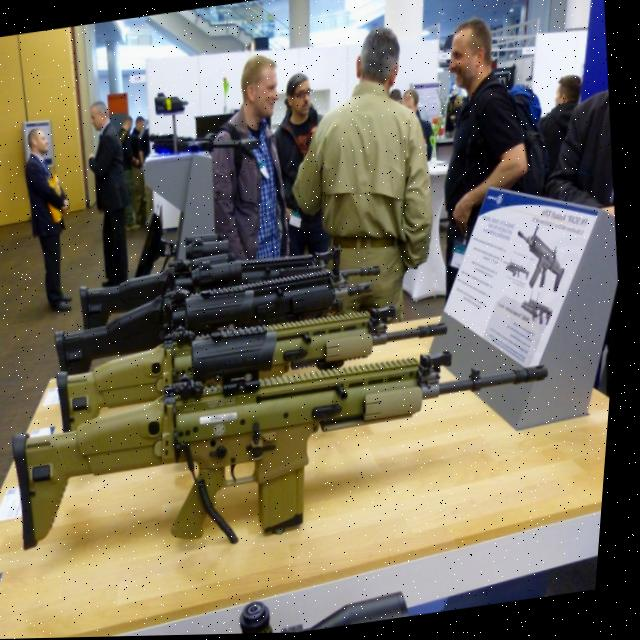firearm: (5, 326, 572, 571), (53, 291, 461, 434), (51, 258, 386, 378), (76, 209, 391, 330), (516, 221, 576, 301)
